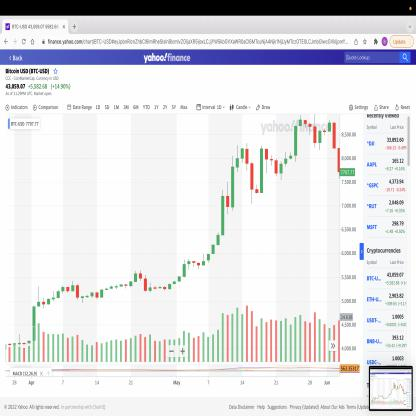Bearish: Tweezer Top: (240, 142, 249, 172)
Bullish: Engulfing: (226, 154, 235, 216)
Bullish: Tweezer Bottom: (313, 113, 322, 152), (274, 157, 284, 182)
